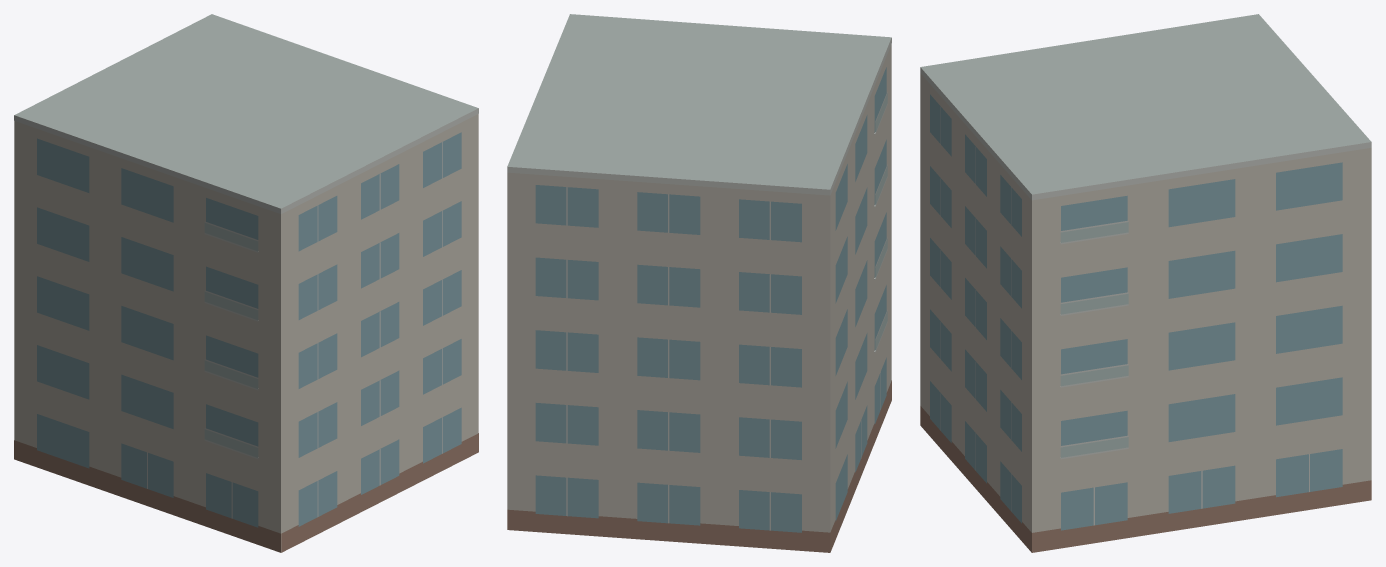
File: survey-upis-32941650.glb
The picture shows the model from 3 angles, left to right: view 1: azimuth 30°, elevation 25°; view 2: azimuth 150°, elevation 25°; view 3: azimuth 270°, elevation 25°; orthographic projection. The views are drawn at different scales.
Parts seen in each view (by area): view 1: survey-upis-32941650.tmp; view 2: survey-upis-32941650.tmp; view 3: survey-upis-32941650.tmp.
Part boxes in pixels (x1,y1,x2,y2): survey-upis-32941650.tmp: (14,14,478,552); survey-upis-32941650.tmp: (507,14,891,552); survey-upis-32941650.tmp: (920,14,1371,552).
Bounding box in the file's own units: 16.45 × 15.2 × 17.37.
